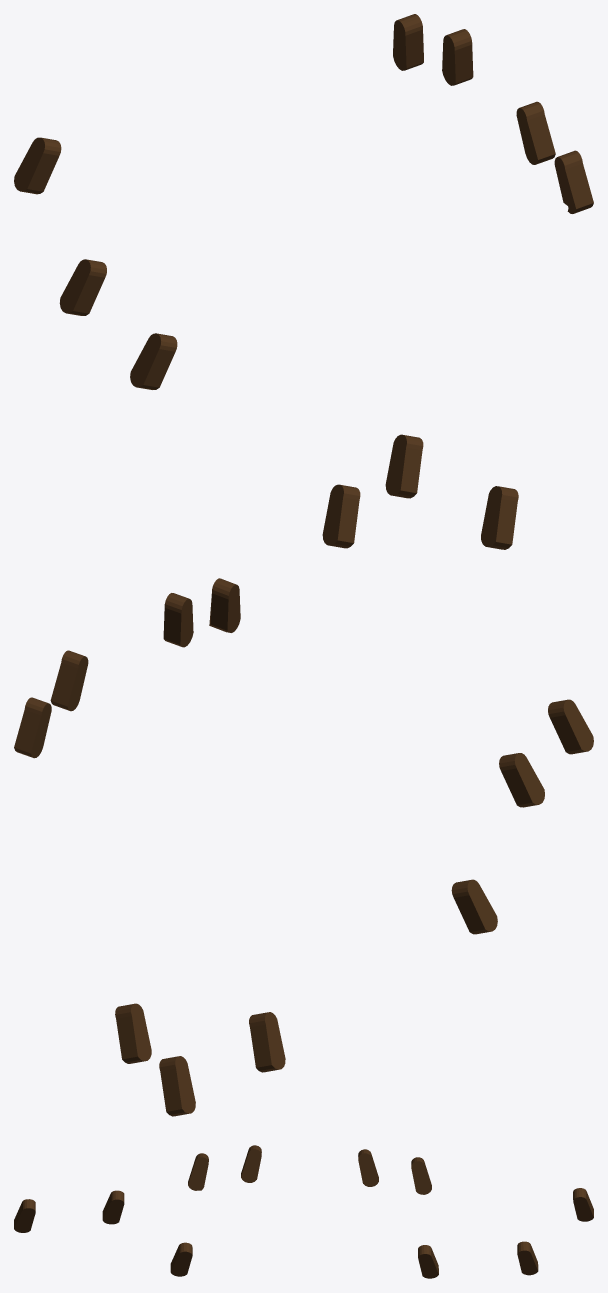
Rendered from AgentCaseyFH.glb.
The picture shows the model from 3 angles, top to bottom: view 1: azimuth 30°, elevation 25°; view 2: azimuth 150°, elevation 25°; view 3: azimuth 270°, elevation 25°; orthographic projection. The views are drawn at different scales.
Visible parts, largest first — view 1: BOWCaseyStubble; view 2: BOWCaseyStubble; view 3: BOWCaseyStubble.
Part boxes in pixels (<box>): BOWCaseyStubble: <box>14,14,593,549</box>; BOWCaseyStubble: <box>14,578,593,1116</box>; BOWCaseyStubble: <box>14,1145,593,1278</box>.
Size of the model in its own units: 0.7833 by 0.8486 by 2.17.
